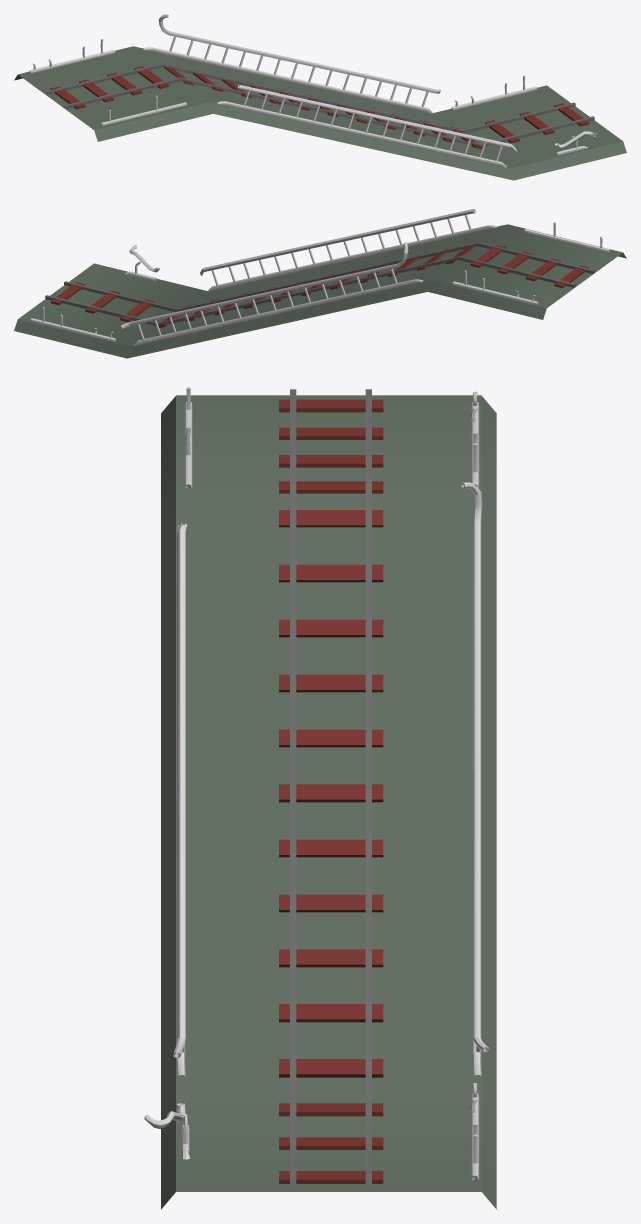
File: F_Down_01.fbx
The picture shows the model from 3 angles, top to bottom: view 1: azimuth 30°, elevation 25°; view 2: azimuth 150°, elevation 25°; view 3: azimuth 270°, elevation 25°; orthographic projection. The views are drawn at different scales.
Parts seen in each view (by area): view 1: group8_pCube221; view 2: group8_pCube221; view 3: group8_pCube221.
Part boxes in pixels (bbox=[...]): group8_pCube221: bbox=[14, 14, 626, 180]; group8_pCube221: bbox=[14, 209, 626, 358]; group8_pCube221: bbox=[144, 387, 496, 1209].
Bounding box in the file's own units: 200 × 63.7 × 57.68.
